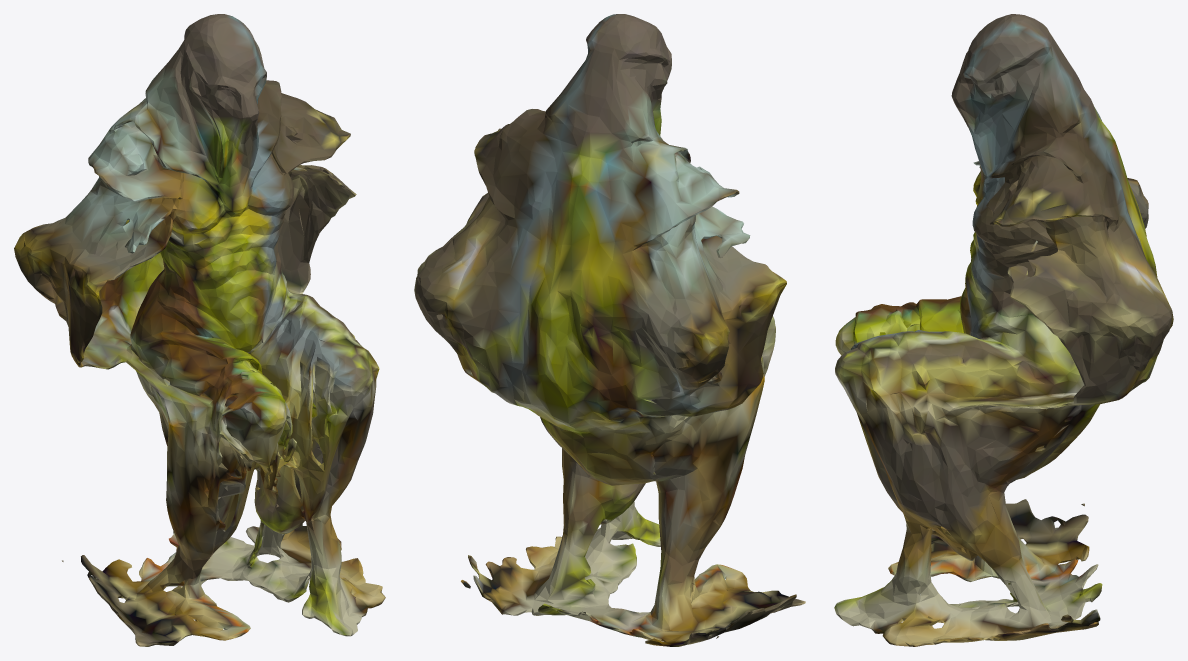
File: carnivorousPlant.glb
The picture shows the model from 3 angles, left to right: view 1: azimuth 30°, elevation 25°; view 2: azimuth 150°, elevation 25°; view 3: azimuth 270°, elevation 25°; orthographic projection. The views are drawn at different scales.
Visible parts, largest first — view 1: world; view 2: world; view 3: world.
Part boxes in pixels (bbox=[...]): world: bbox=[14, 14, 385, 646]; world: bbox=[414, 14, 805, 646]; world: bbox=[834, 14, 1173, 646].
Size of the model in its own units: 0.5349 by 1 by 0.5299.
